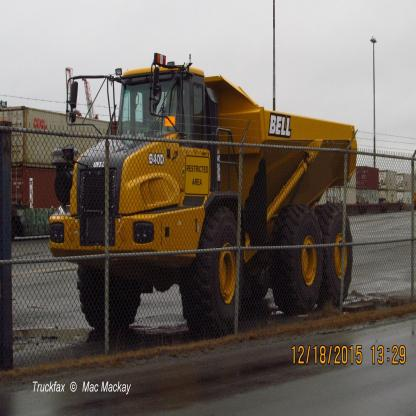dump_truck: (56, 58, 362, 323)
